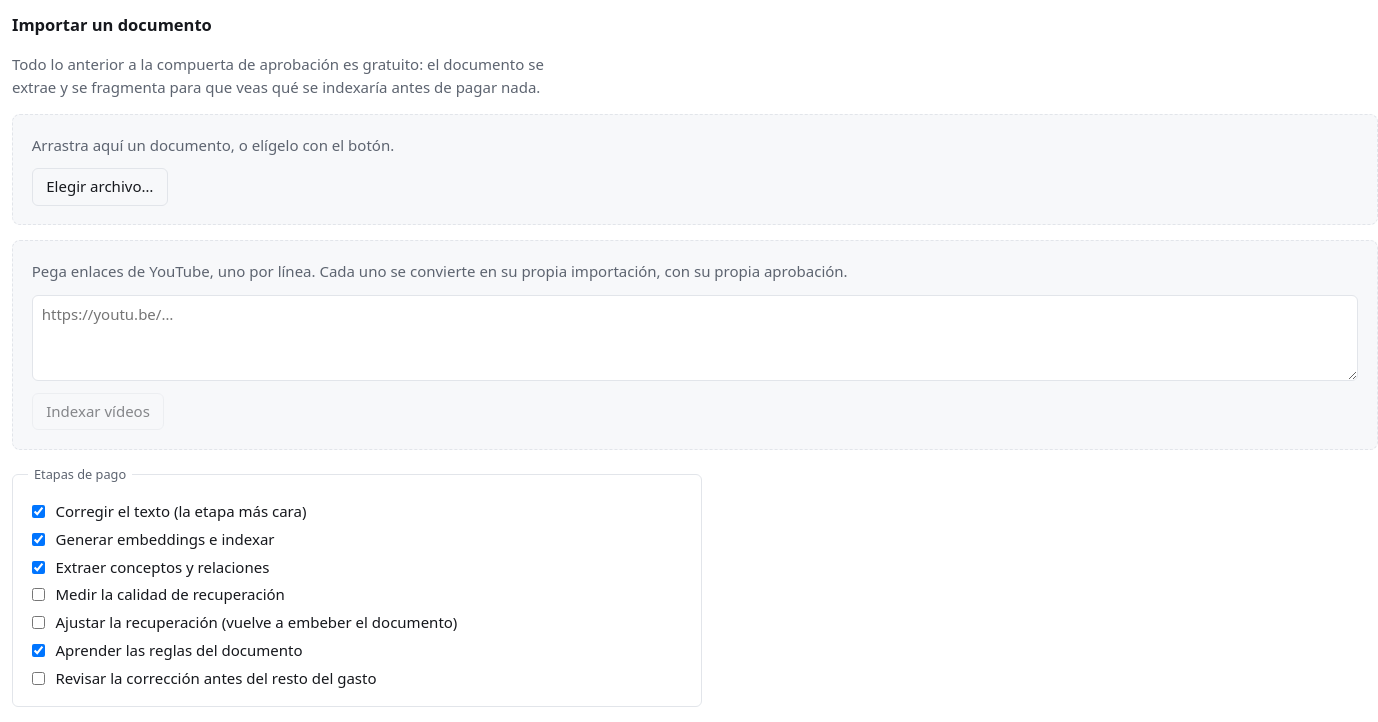
Scenario: choosing a file to import › shows the file's name, and the path underneath it
Click the button "Elegir archivo…". click: (100, 187)
box: [32, 168, 168, 206]
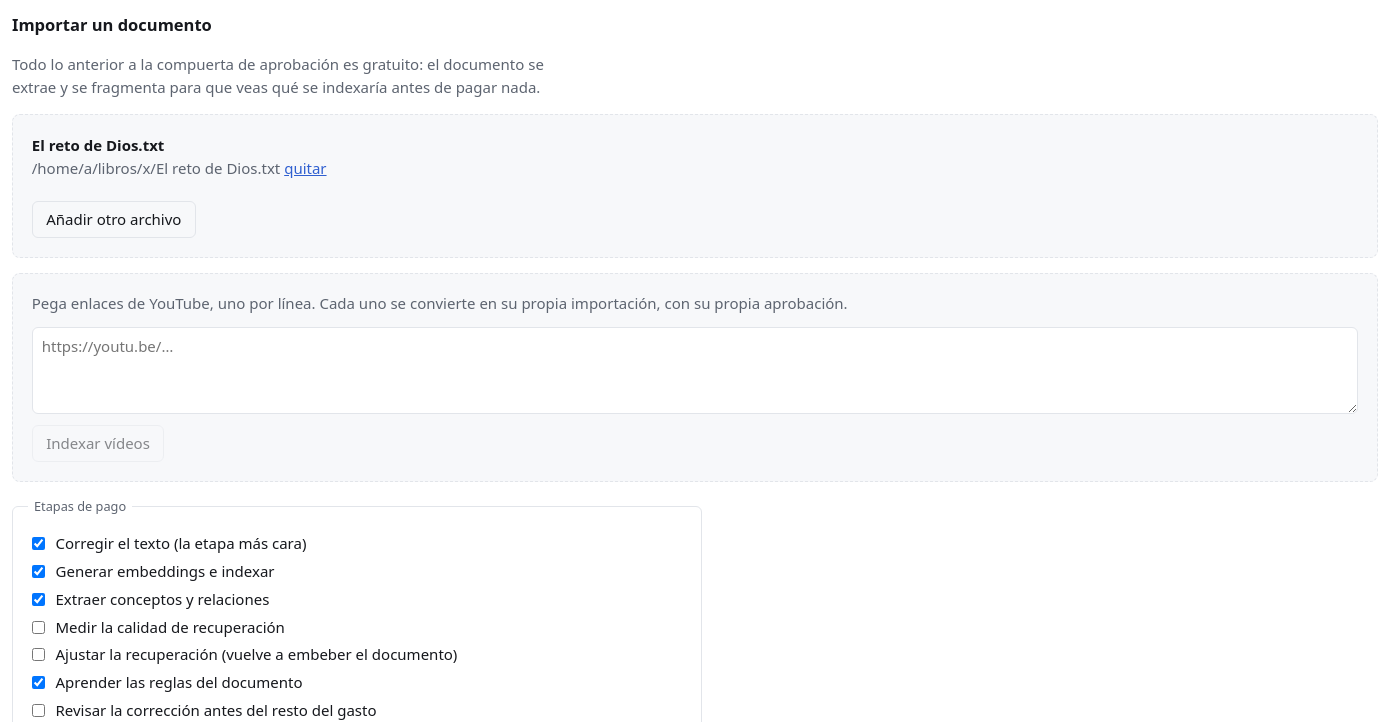
Check: the text "El reto de Dios.txt" is shown, box [32, 135, 164, 155]
Check: the text "/home/a/libros/x/El reto de Dios.txt" is shown, box [32, 158, 280, 178]
